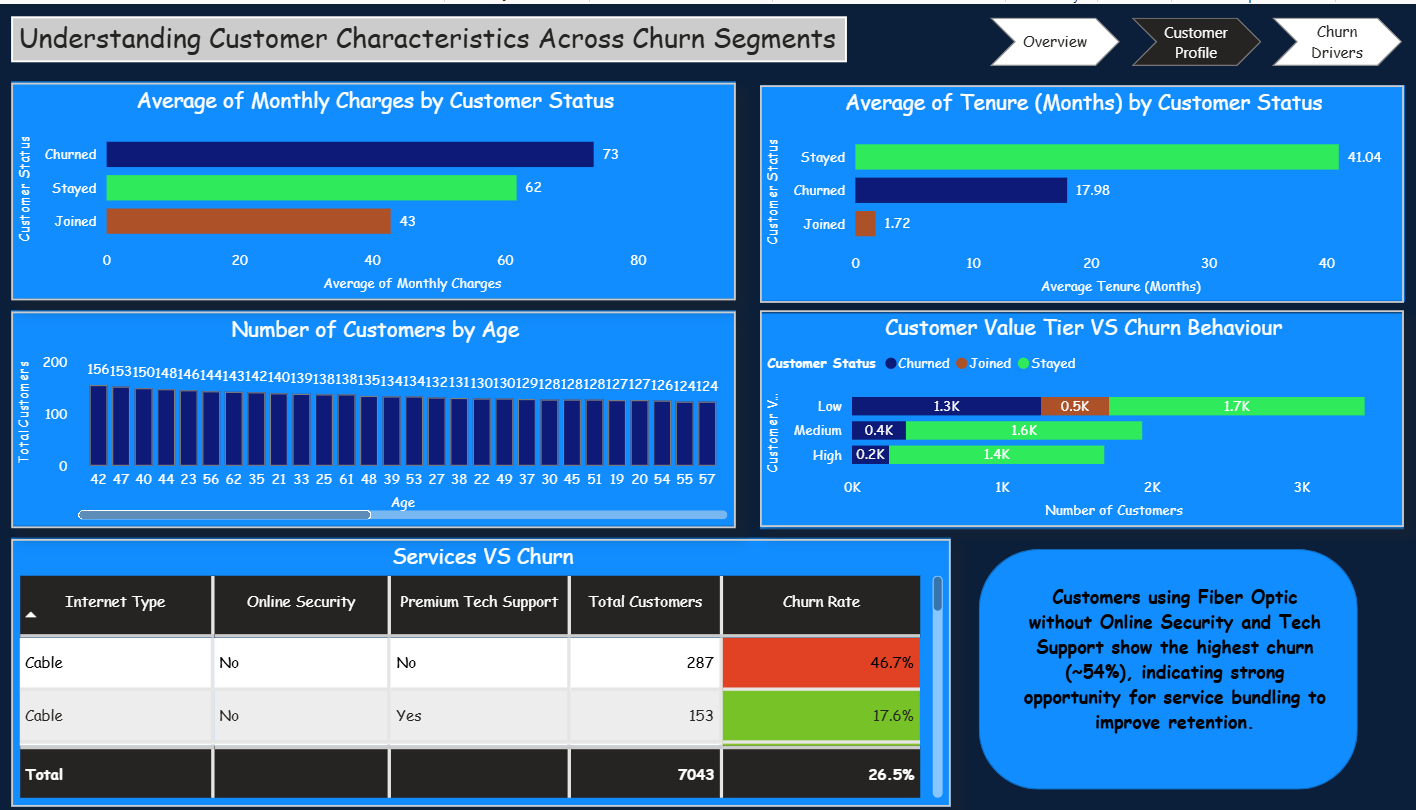

The dashboard page shown, as its layout file describes it:
{"tool":"powerbi","page":{"name":"Customer Profile","canvas":[1280,720],"ordinal":1},"visuals":[{"type":"shape","box":[874.1,486.3,338.6,214.9],"z":0},{"type":"shape","box":[9.6,476.7,839.3,240.2],"z":1000},{"type":"shape","box":[678.4,276.2,575.2,193.3],"z":2000},{"type":"shape","box":[9.6,273.8,647.2,193.3],"z":3000},{"type":"shape","box":[678.4,72,576.4,193.3],"z":4000},{"type":"shape","box":[9.6,69.6,647.2,194.5],"z":5000},{"type":"textbox","title":"Understanding Customer Characteristics Across Churn Segments","box":[9.8,11.2,746,40.7],"z":11000},{"type":"clusteredBarChart","title":"Average of Monthly Charges by Customer Status","fields":{"Category":["churn.Customer_Status"],"Y":["Avg(churn.Monthly_Charge)"]},"box":[9.6,70.8,647.2,194.5],"z":12000},{"type":"barChart","title":"Average of Tenure (Months) by Customer Status","fields":{"Category":["churn.Customer_Status"],"Y":["Avg(churn.Tenure_in_Months)"]},"box":[678.4,72,575.2,194.5],"z":13000},{"type":"clusteredColumnChart","title":"Number of Customers by Age","fields":{"Category":["churn.Age"],"Y":["churn.Total Customers"]},"box":[9.6,275,647.2,193.3],"z":14000},{"type":"barChart","title":"Customer Value Tier VS Churn Behaviour","fields":{"Series":["churn.Customer_Status"],"Y":["CountNonNull(churn.Customer_ID)"],"Category":["churn.Customer_Value_Tier"]},"box":[678.4,273.8,575.2,193.3],"z":15000},{"type":"tableEx","title":"Services VS Churn","fields":{"Values":["churn.Internet_Type","churn.Online_Security","churn.Premium_Tech_Support","churn.Total Customers","churn.Churn Rate"]},"box":[9.6,477.9,839.3,238.9],"z":16000},{"type":"textbox","box":[907.8,512.7,283.4,172.9],"z":17000},{"type":"pageNavigator","box":[884.8,12.6,368.8,43.5],"z":18000}]}

Visuals, with their boxes in screenshot pixels (x1, y1, x2, y2), scaled from the page's 1280x720 canvas onto the 1416x810 screenshot:
shape: [x1=967, y1=547, x2=1342, y2=789]
shape: [x1=11, y1=536, x2=939, y2=807]
shape: [x1=750, y1=311, x2=1387, y2=528]
shape: [x1=11, y1=308, x2=727, y2=525]
shape: [x1=750, y1=81, x2=1388, y2=298]
shape: [x1=11, y1=78, x2=727, y2=297]
"Understanding Customer Characteristics Across Churn Segments" textbox: [x1=11, y1=13, x2=836, y2=58]
"Average of Monthly Charges by Customer Status" clusteredBarChart: [x1=11, y1=80, x2=727, y2=298]
"Average of Tenure (Months) by Customer Status" barChart: [x1=750, y1=81, x2=1387, y2=300]
"Number of Customers by Age" clusteredColumnChart: [x1=11, y1=309, x2=727, y2=527]
"Customer Value Tier VS Churn Behaviour" barChart: [x1=750, y1=308, x2=1387, y2=525]
"Services VS Churn" tableEx: [x1=11, y1=538, x2=939, y2=806]
textbox: [x1=1004, y1=577, x2=1318, y2=771]
pageNavigator: [x1=979, y1=14, x2=1387, y2=63]
